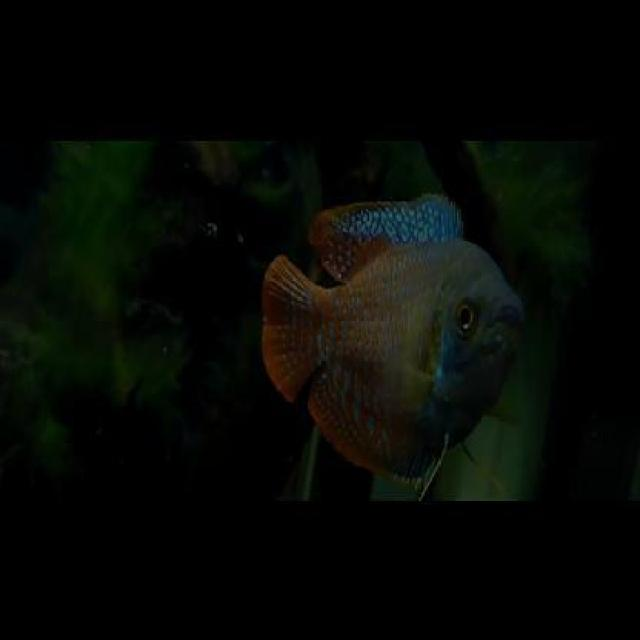Gourami: (256, 194, 526, 477)
